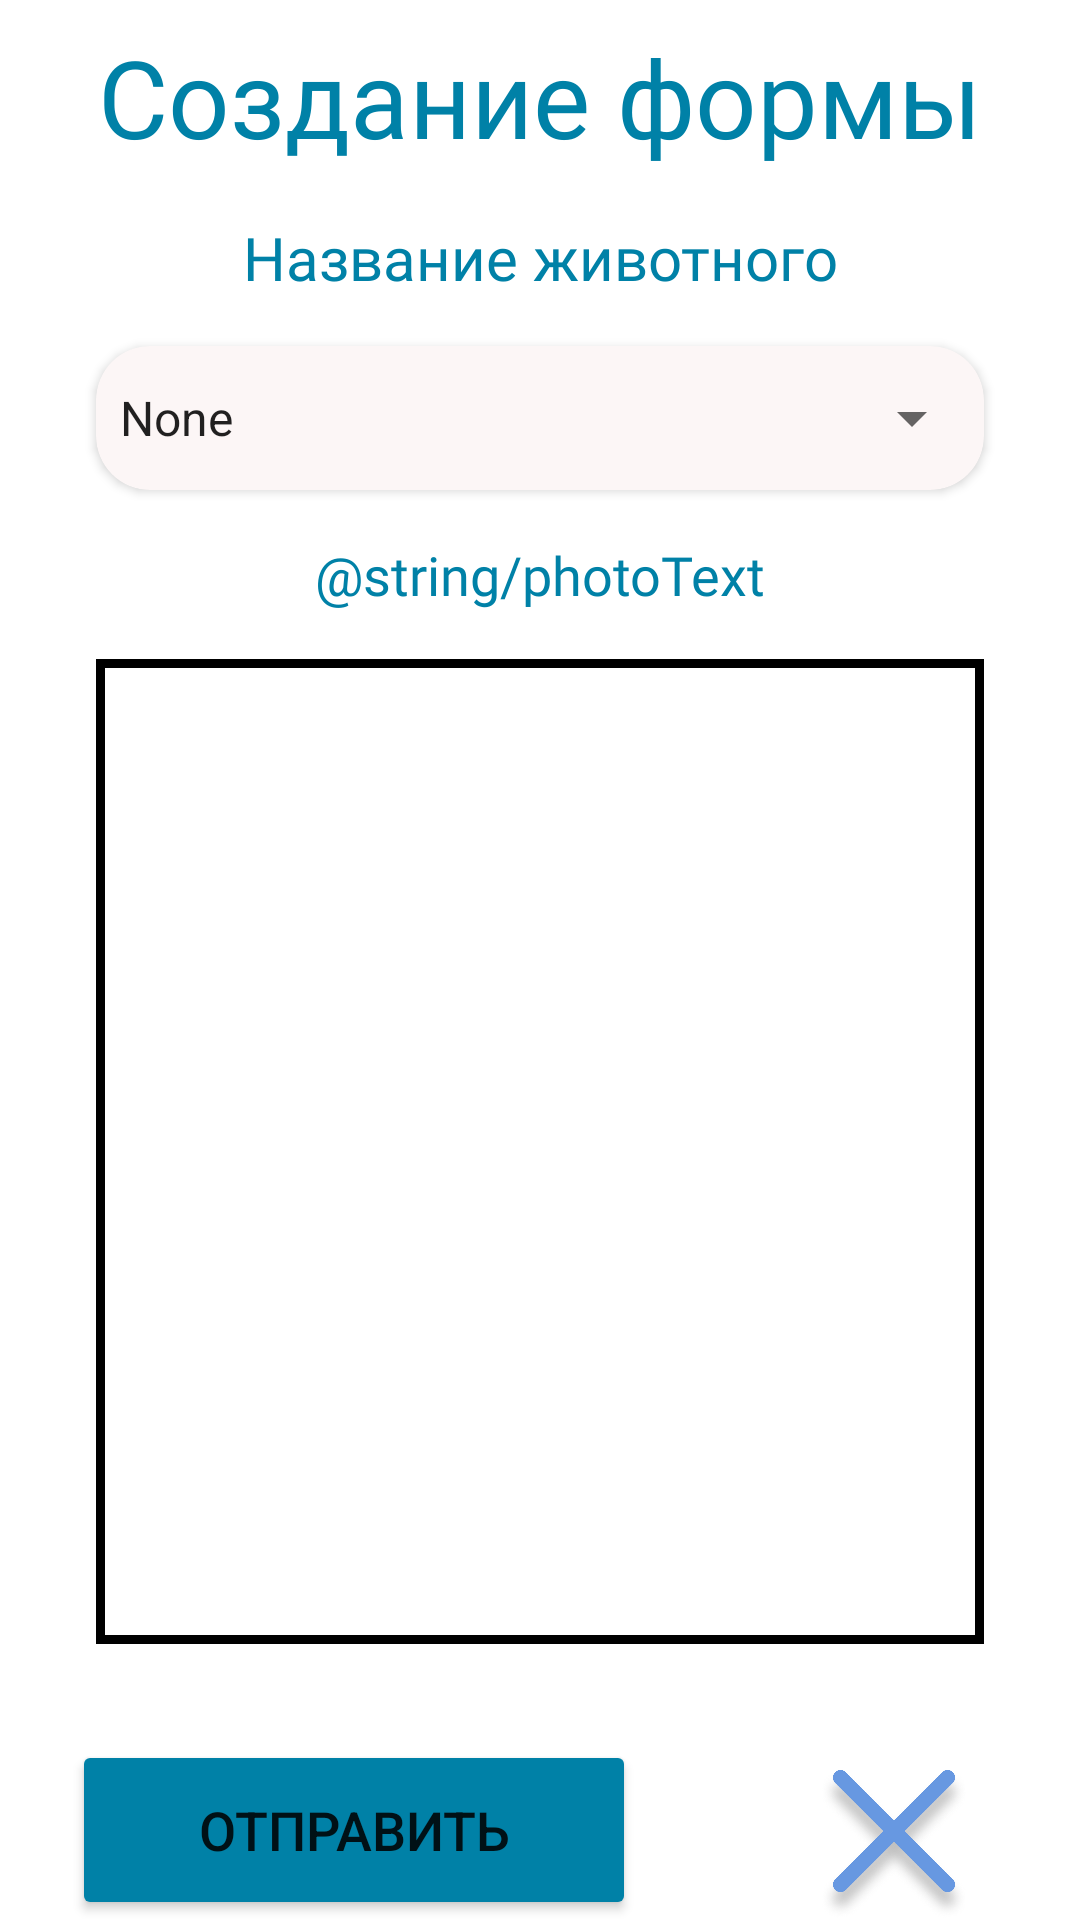

Named icons in this screenshot (1080x1920) and their centers, (x,y):
exit: (894,1837)
